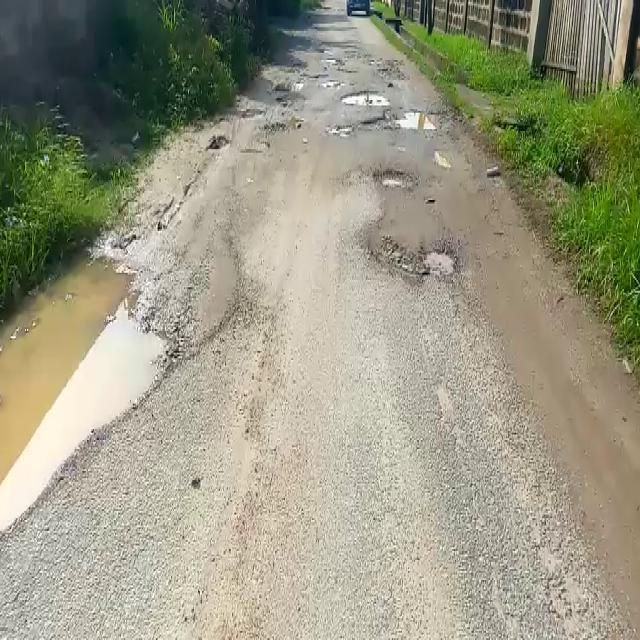pothole: (1, 244, 178, 542), (380, 242, 460, 280), (395, 108, 454, 134), (372, 165, 417, 195), (338, 90, 392, 107)
